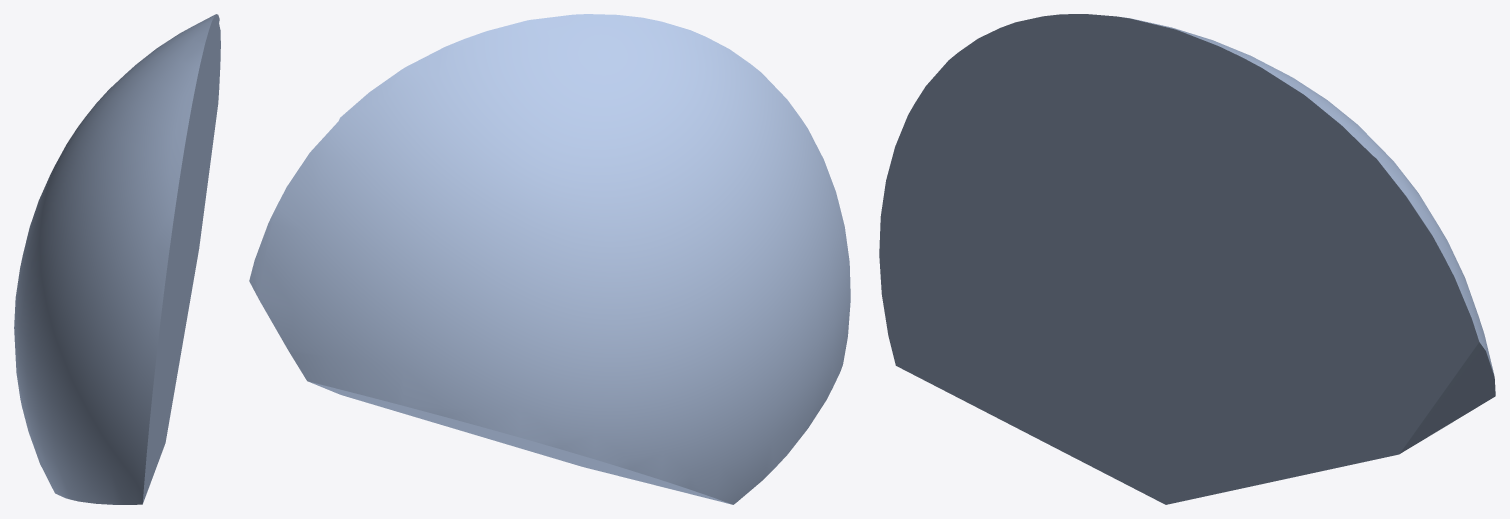
File: Ball2_3.fbx
3 views of the same model, side by side, from view 1: azimuth 30°, elevation 25°; view 2: azimuth 150°, elevation 25°; view 3: azimuth 270°, elevation 25° (orthographic). The views are drawn at different scales.
Parts seen in each view (by area): view 1: Cube_cell.069; view 2: Cube_cell.069; view 3: Cube_cell.069.
Part boxes in pixels (box(x1,y1,x2,y2)): Cube_cell.069: box(14, 14, 220, 504); Cube_cell.069: box(249, 14, 850, 504); Cube_cell.069: box(879, 14, 1495, 504).
Size of the model in its own units: 86.98 by 104 by 112.
